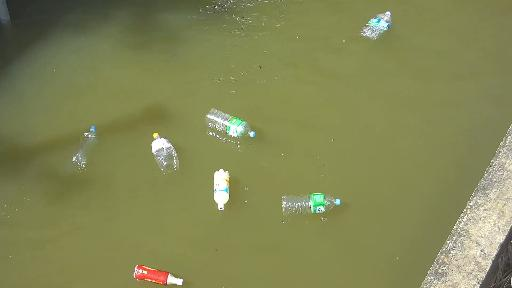plastic: (203, 106, 276, 144), (59, 123, 110, 177), (140, 126, 186, 185), (126, 263, 188, 286), (283, 189, 342, 213), (357, 9, 392, 43), (213, 167, 235, 206)
